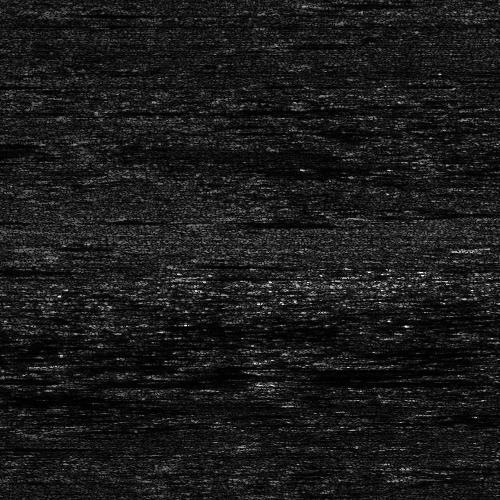object: (180, 218, 253, 227), (245, 377, 318, 384), (184, 271, 237, 278), (244, 367, 307, 372), (38, 362, 91, 367), (27, 244, 80, 249), (293, 1, 334, 6), (461, 244, 500, 249), (0, 265, 19, 272)
shadow: (282, 377, 448, 384), (65, 362, 274, 367), (217, 218, 318, 227), (276, 367, 438, 372), (0, 265, 79, 272), (211, 271, 286, 278), (314, 1, 395, 6), (53, 244, 99, 249)
